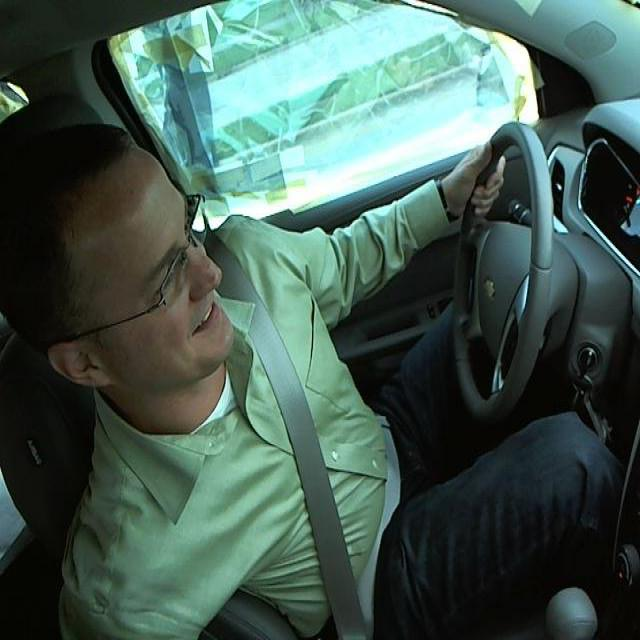seatbelt: (229, 288, 404, 632)
